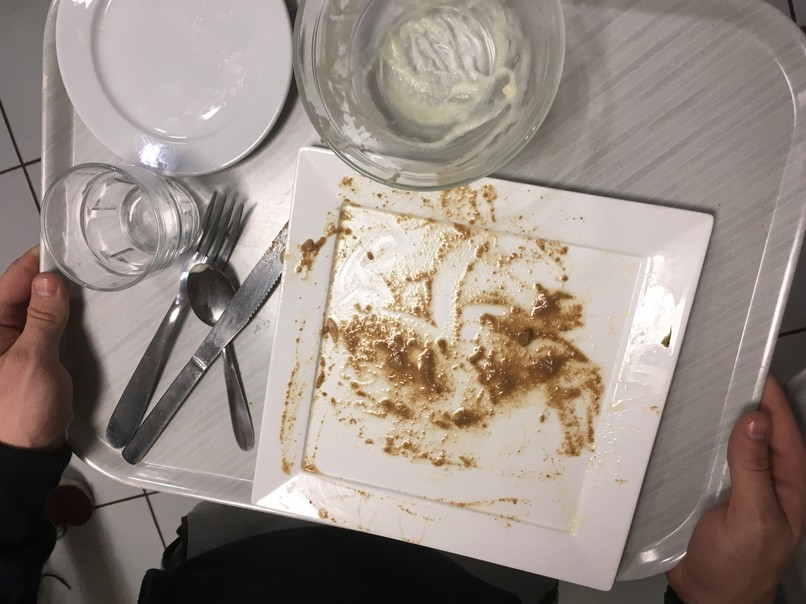cup: (35, 155, 201, 297)
cutlery: (91, 194, 255, 460), (186, 259, 264, 460), (250, 216, 300, 329)
orga: (492, 285, 578, 411)
